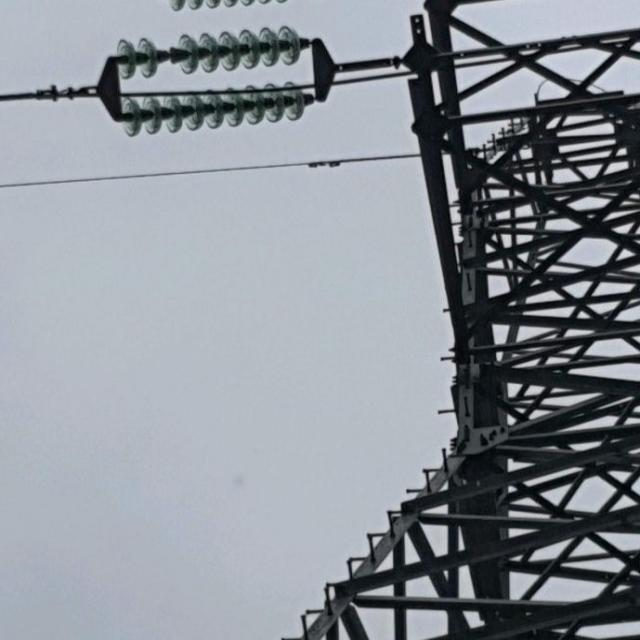杆塔: (288, 0, 640, 640)
正常电缆: (0, 143, 447, 190)
正常绝缘子: (123, 79, 315, 139), (117, 25, 300, 80), (166, 0, 290, 10)
绝缘子破损: (160, 46, 178, 66)
